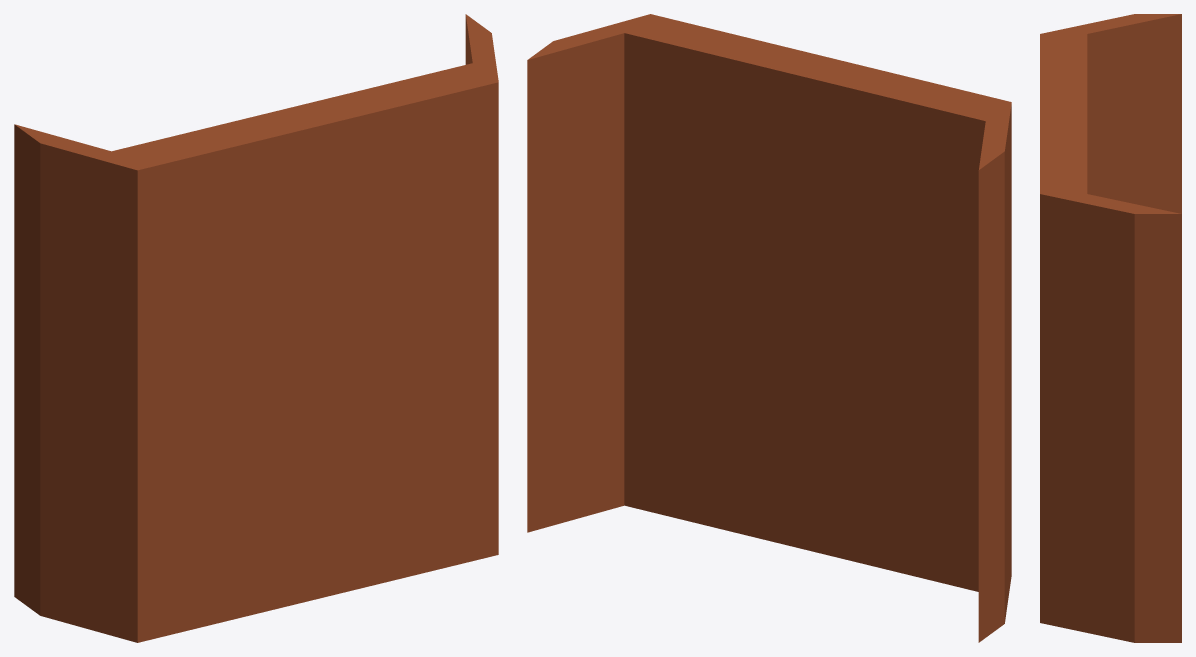
Rendered from wall_bay.fbx.
The picture shows the model from 3 angles, left to right: view 1: azimuth 30°, elevation 25°; view 2: azimuth 150°, elevation 25°; view 3: azimuth 270°, elevation 25°; orthographic projection. The views are drawn at different scales.
Visible parts, largest first — view 1: Mesh1_wall_6_1 Model; view 2: Mesh1_wall_6_1 Model; view 3: Mesh1_wall_6_1 Model.
Part boxes in pixels (bbox=[...]): Mesh1_wall_6_1 Model: bbox=[14, 14, 498, 642]; Mesh1_wall_6_1 Model: bbox=[527, 14, 1011, 642]; Mesh1_wall_6_1 Model: bbox=[1040, 14, 1181, 642].
Size of the model in its own units: 1 by 1 by 0.3.
